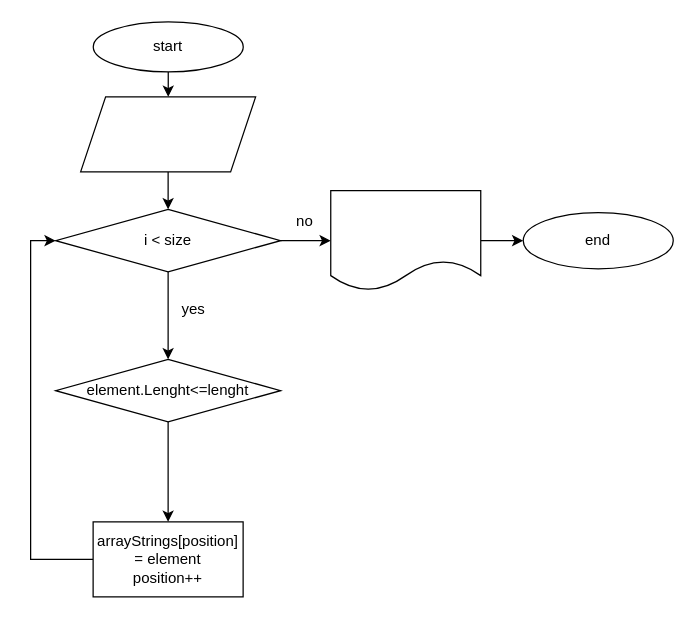
The diagram is 696 pixels wide and 619 high, and some of its shapes have lost their labels. The centre of each missing label's shape, as x and y in pixels:
"arrayStrings[size] lenght = 3 position = 0 i = 0" goes at (x=167, y=134).
"printArray" goes at (x=405, y=240).
